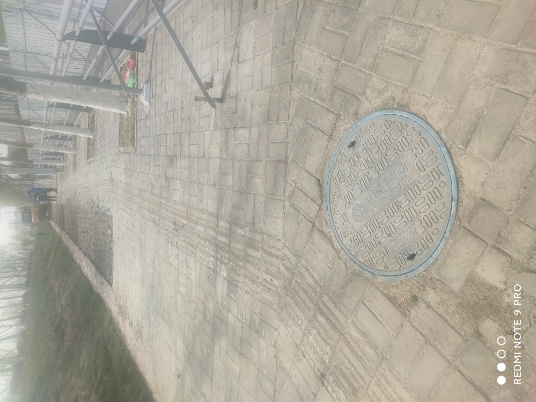good: (325, 109, 459, 281)
